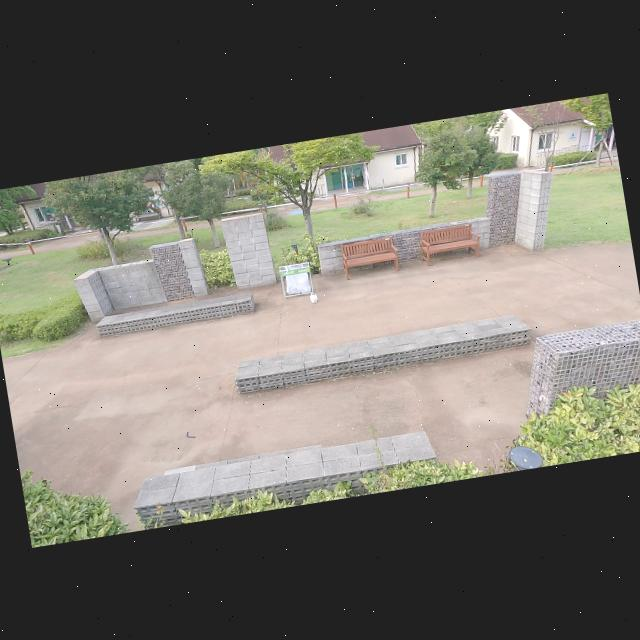trash: (306, 290, 321, 306)
